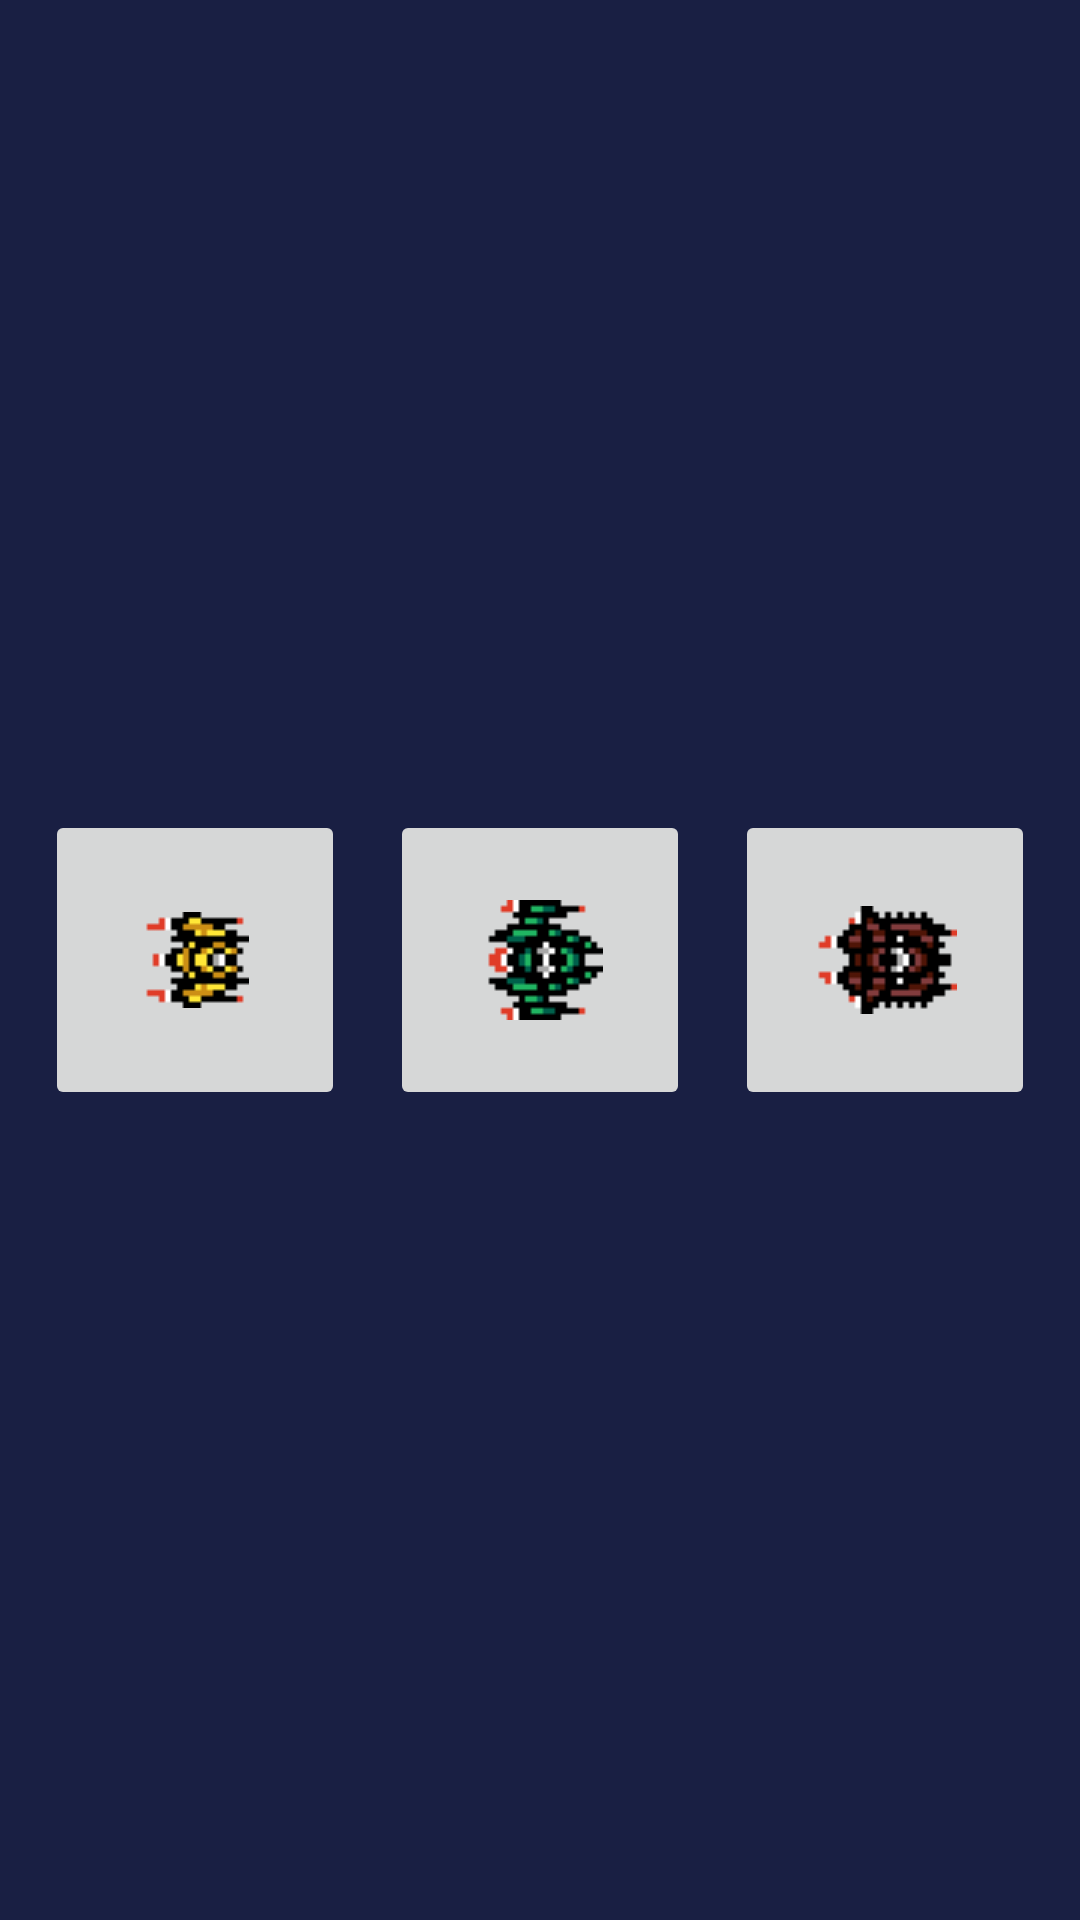

Icon bounding boxes for this 1080 × 1920 phone screenshot, format (x1, y1, x2, y2):
sprite spaceship: (57, 828, 333, 1092), (402, 828, 678, 1092), (747, 828, 1023, 1092)
